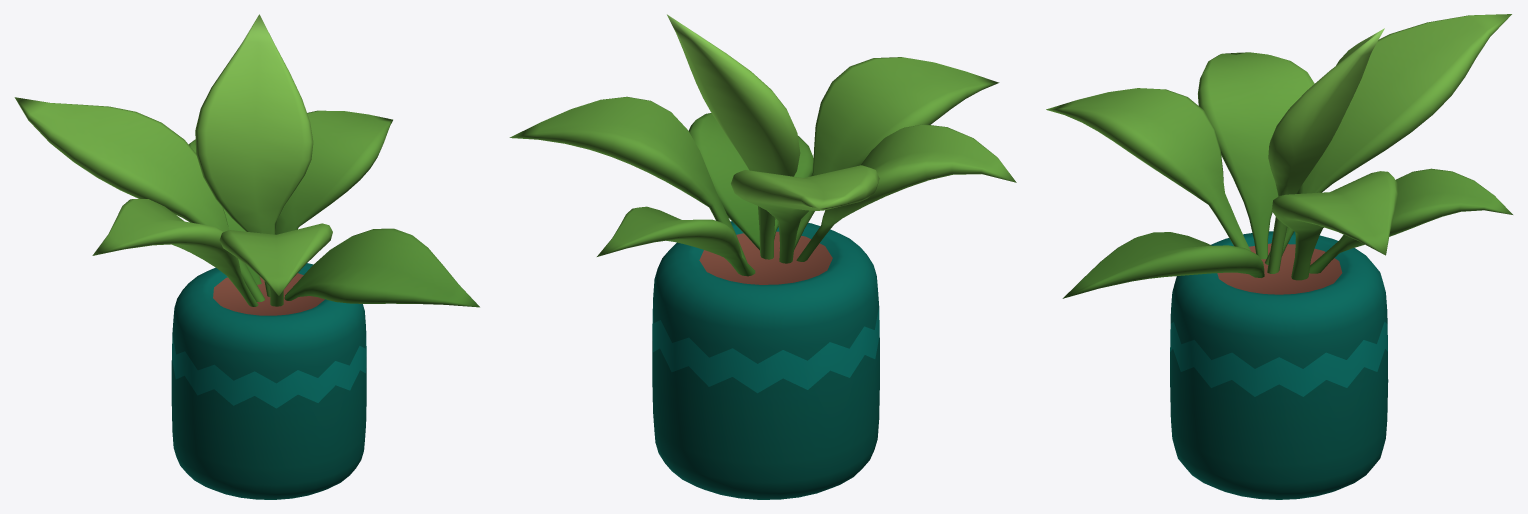
File: Plants_14.glb
3 views of the same model, side by side, from view 1: azimuth 30°, elevation 25°; view 2: azimuth 150°, elevation 25°; view 3: azimuth 270°, elevation 25° (orthographic). The views are drawn at different scales.
Parts seen in each view (by area): view 1: Plants_14; view 2: Plants_14; view 3: Plants_14.
Boxes of the visible parts, x1,y1,x2,y2 form: Plants_14: (14,14,479,499); Plants_14: (509,14,1016,499); Plants_14: (1046,14,1512,499).
Bounding box in the file's own units: 0.5424 × 0.5787 × 0.536.
1 material, 1 textured.
